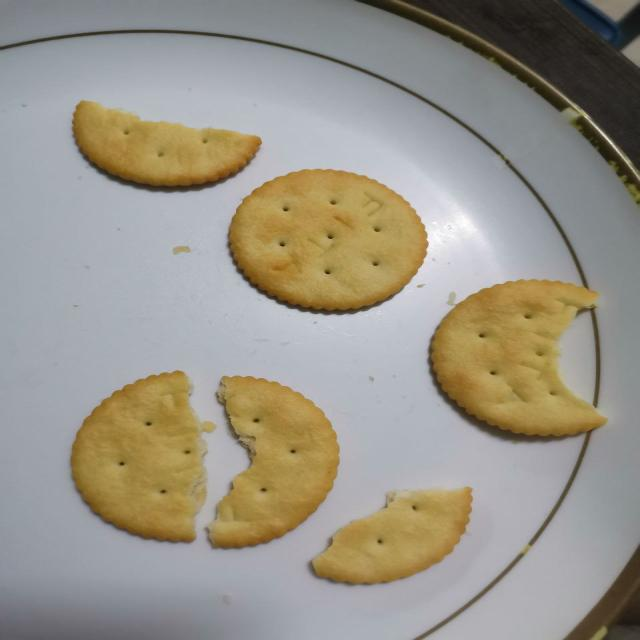broken biscuit: (427, 277, 608, 438), (194, 369, 349, 555), (68, 369, 208, 543), (309, 483, 493, 587), (69, 98, 263, 188)
intact biscuit: (226, 166, 429, 312)
